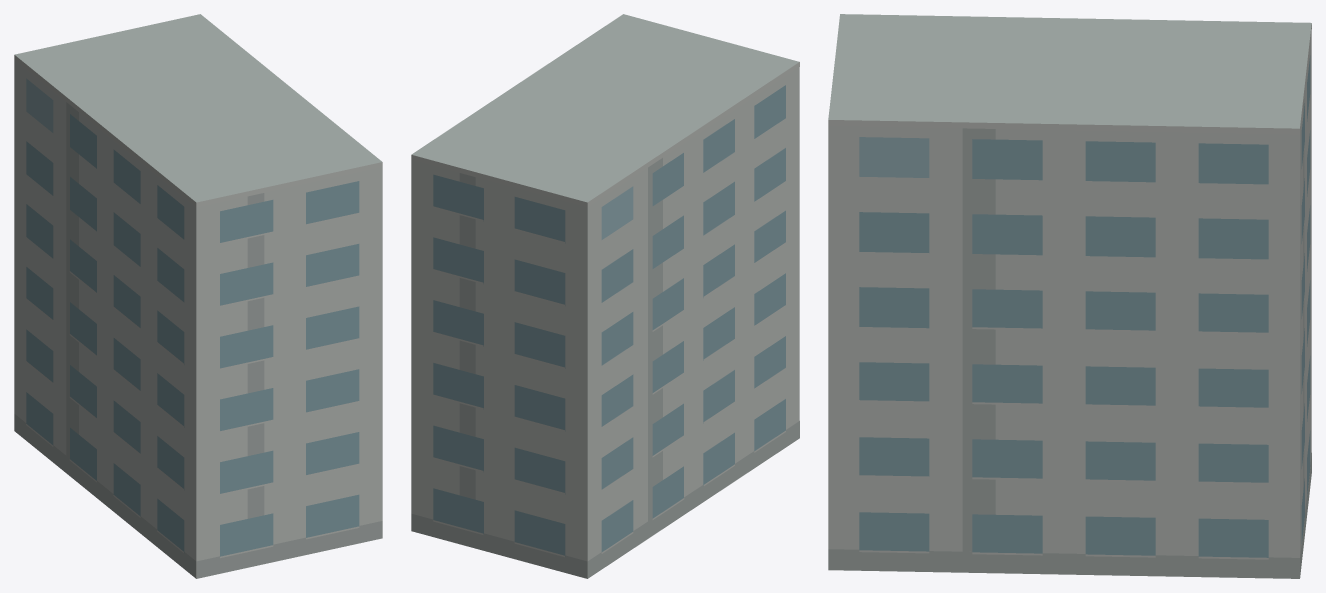
The model's file is survey-upis-33038700.glb.
3 views of the same model, side by side, from view 1: azimuth 30°, elevation 25°; view 2: azimuth 150°, elevation 25°; view 3: azimuth 270°, elevation 25° (orthographic). The views are drawn at different scales.
Parts seen in each view (by area): view 1: survey-upis-33038700.tmp; view 2: survey-upis-33038700.tmp; view 3: survey-upis-33038700.tmp.
Part boxes in pixels (bbox=[...]): survey-upis-33038700.tmp: bbox=[14, 14, 382, 578]; survey-upis-33038700.tmp: bbox=[411, 14, 799, 578]; survey-upis-33038700.tmp: bbox=[828, 14, 1311, 578].
Bounding box in the file's own units: 9.89 × 18.1 × 17.63.
